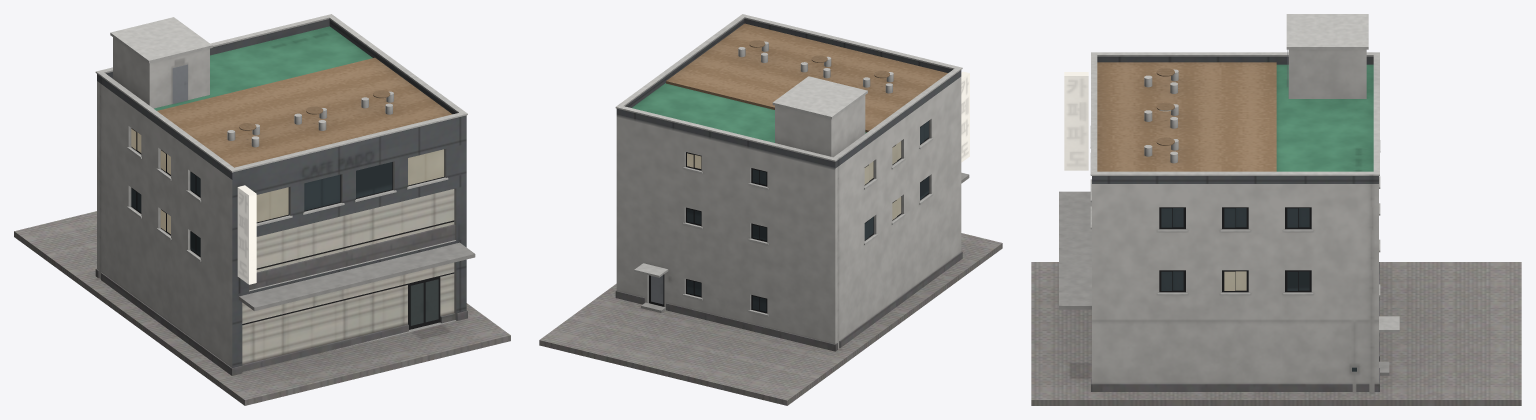
File: IlsanCafe01_LOD2.fbx
3 renders of one model, left to right at view 1: azimuth 30°, elevation 25°; view 2: azimuth 150°, elevation 25°; view 3: azimuth 270°, elevation 25°, orthographic. The views are drawn at different scales.
Visible parts, largest first — view 1: IlsanCafe01_LOD2; view 2: IlsanCafe01_LOD2; view 3: IlsanCafe01_LOD2.
Part boxes in pixels (bbox=[...]): IlsanCafe01_LOD2: bbox=[14, 14, 510, 405]; IlsanCafe01_LOD2: bbox=[539, 14, 1002, 405]; IlsanCafe01_LOD2: bbox=[1031, 14, 1521, 405].
Size of the model in its own units: 15.9 by 14.35 by 23.9.
Materials: 1 (1 with a texture image).
